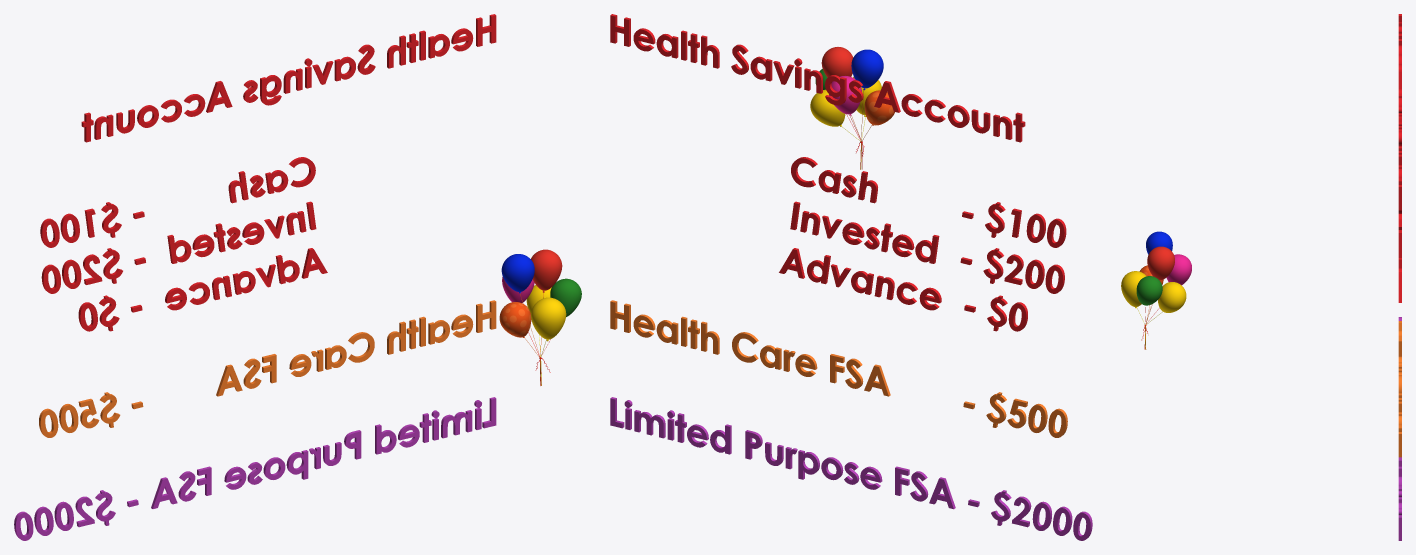
Rendered from thirteen.fbx.
3 renders of one model, left to right at view 1: azimuth 30°, elevation 25°; view 2: azimuth 150°, elevation 25°; view 3: azimuth 270°, elevation 25°, orthographic. The views are drawn at different scales.
Visible parts, largest first — view 1: node_id42 (×8), node_id168; view 2: node_id42 (×8), node_id168; view 3: node_id168, node_id42 (×2).
Boxes of the visible parts, bbox=[...] form: node_id42 (×8): bbox=[14, 14, 496, 540]; node_id168: bbox=[499, 249, 581, 385]; node_id42 (×8): bbox=[610, 14, 1092, 540]; node_id168: bbox=[810, 47, 894, 169]; node_id168: bbox=[1121, 231, 1191, 349]; node_id42 (×2): bbox=[1398, 14, 1401, 457].
Bounding box in the file's own units: 4.92 × 4.1 × 2.88.
9 materials, 1 textured.
